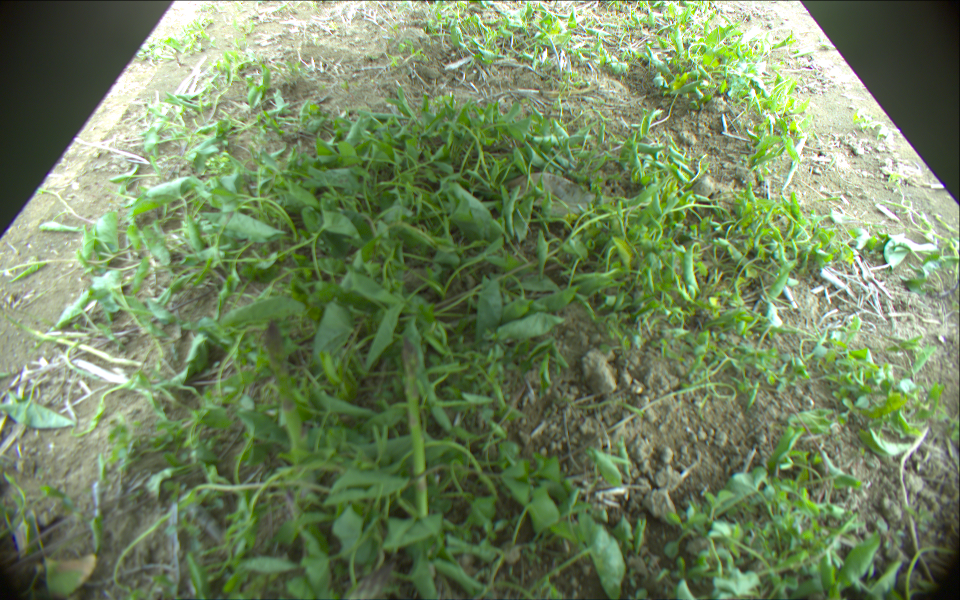aspa: (401, 335, 434, 518)
